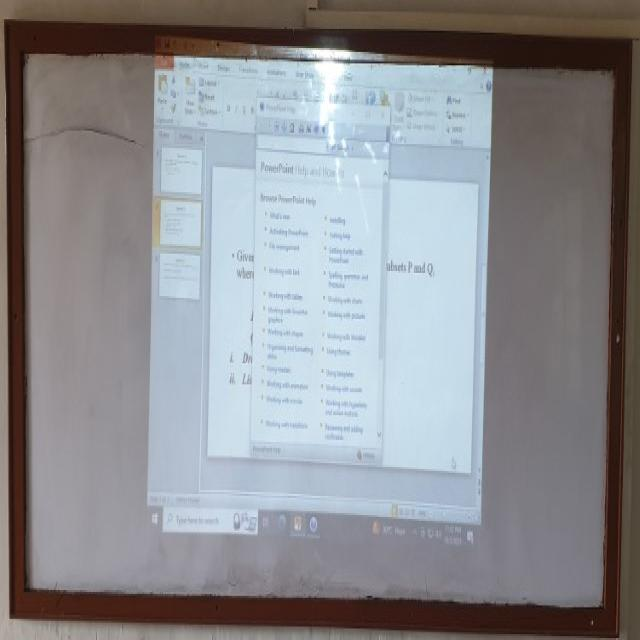Slide: (141, 32, 492, 557)
White-board: (9, 30, 623, 621)
